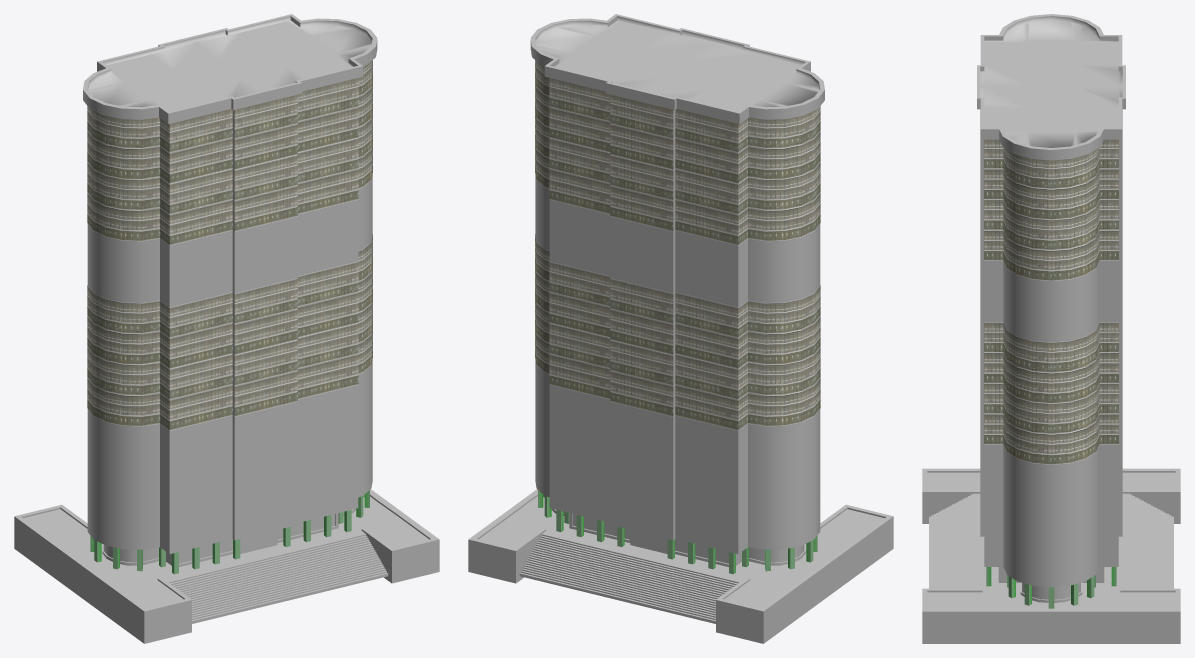
Rendered from downtown_skyscraper_10.FBX.
3 views of the same model, side by side, from view 1: azimuth 30°, elevation 25°; view 2: azimuth 150°, elevation 25°; view 3: azimuth 270°, elevation 25° (orthographic).
Visible parts, largest first — view 1: downtown_skyscraper_10, em_win_dwtn_skyscraper_10, platform_dtw_skyscraper_10; view 2: downtown_skyscraper_10, em_win_dwtn_skyscraper_10, platform_dtw_skyscraper_10; view 3: downtown_skyscraper_10, em_win_dwtn_skyscraper_10, platform_dtw_skyscraper_10.
Part boxes in pixels (x1,y1,x2,y2): downtown_skyscraper_10: [83, 14, 377, 574]; em_win_dwtn_skyscraper_10: [87, 60, 372, 430]; platform_dtw_skyscraper_10: [14, 489, 439, 643]; downtown_skyscraper_10: [530, 14, 824, 574]; em_win_dwtn_skyscraper_10: [535, 60, 820, 430]; platform_dtw_skyscraper_10: [468, 489, 893, 643]; downtown_skyscraper_10: [977, 14, 1125, 608]; em_win_dwtn_skyscraper_10: [984, 139, 1118, 464]; platform_dtw_skyscraper_10: [922, 468, 1180, 643].
Size of the model in its own units: 346 by 556 by 264.
